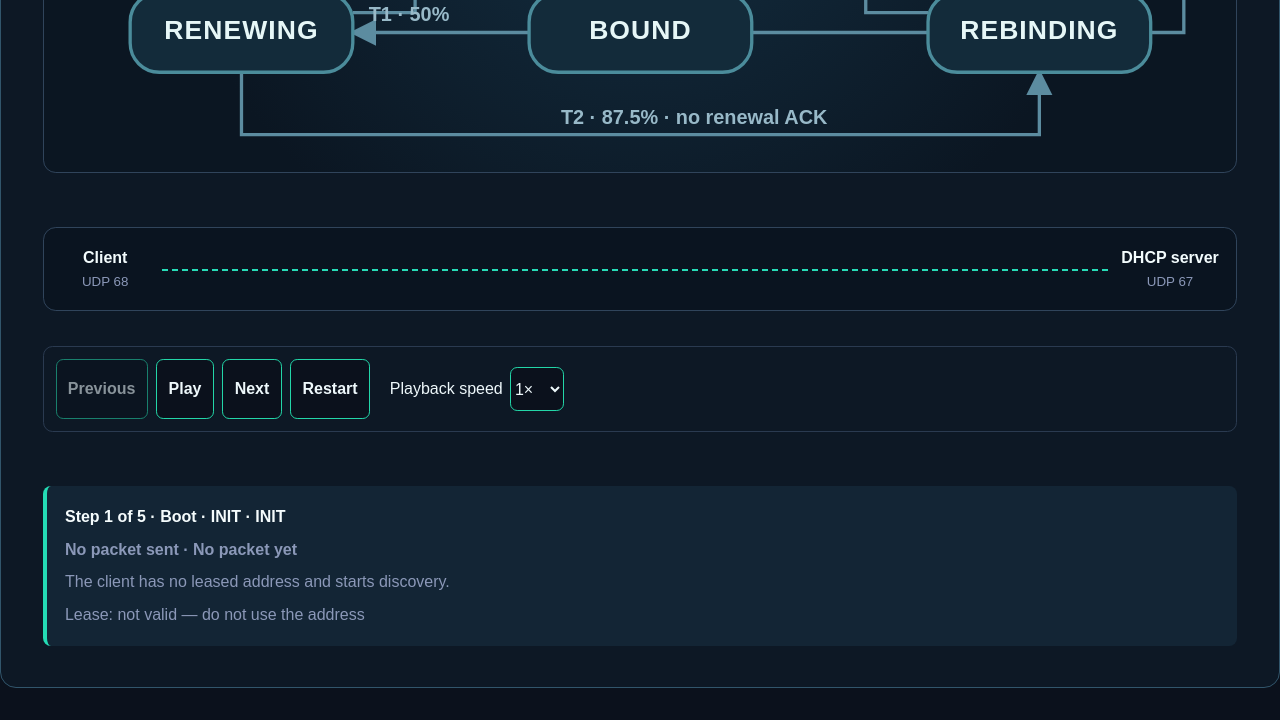
Test: advanced DHCP lease timing › provides working shared playback controls
(page scrolled)
Expected: the element "Play" is shown, [43,346,1237,432]
Click the button "Play" at [185, 389], box [156,359,214,419]
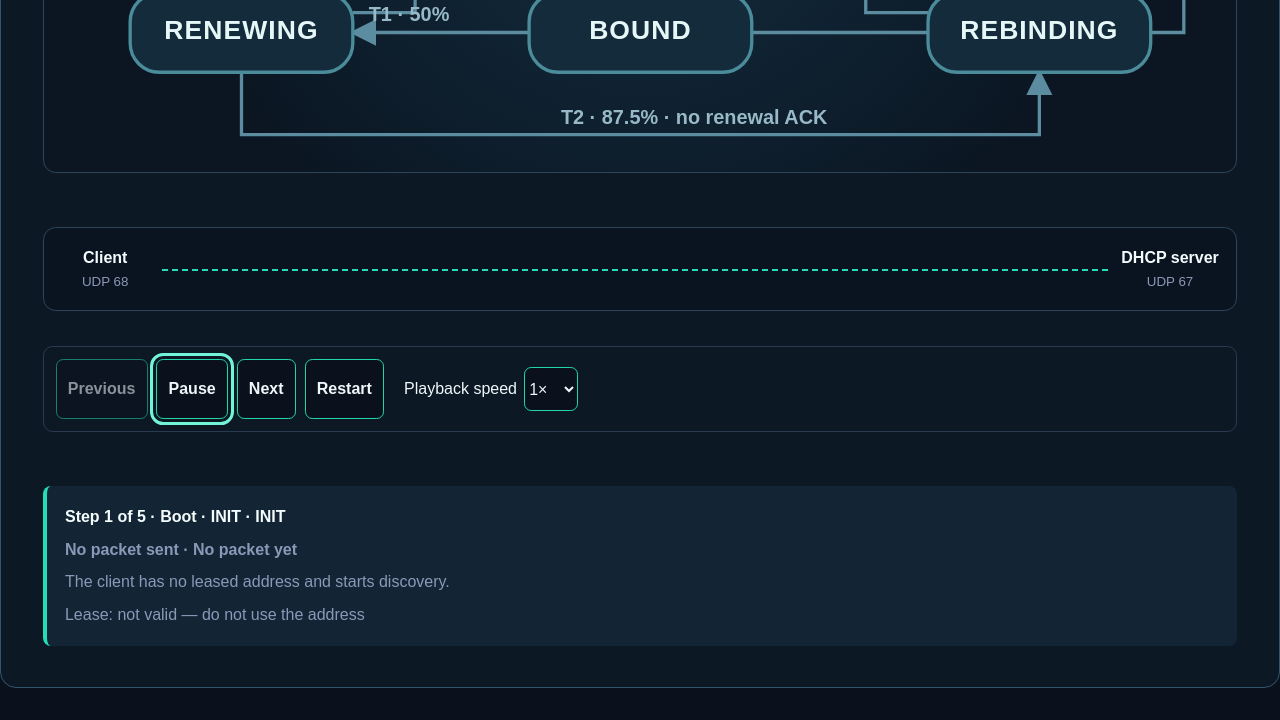
Now the button "Pause" is shown, box [156,359,228,419]
